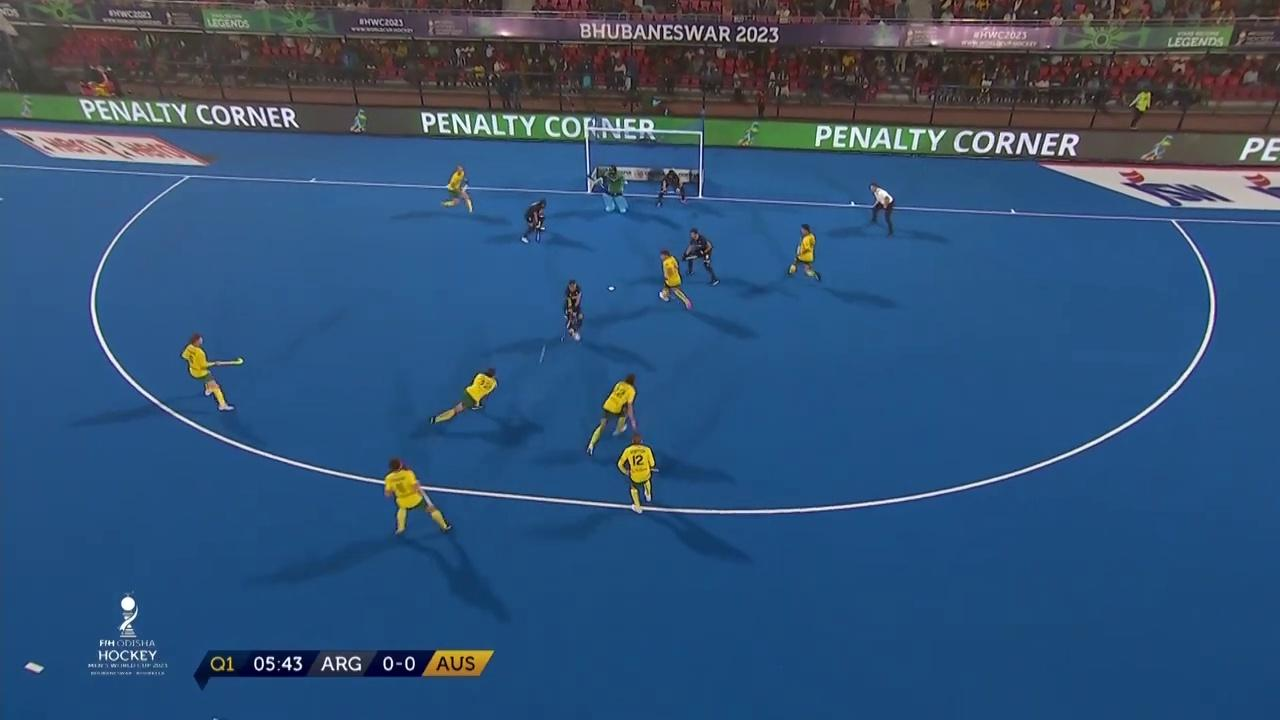ball: (604, 282, 617, 295)
